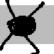not correct: (0, 0, 46, 54)
